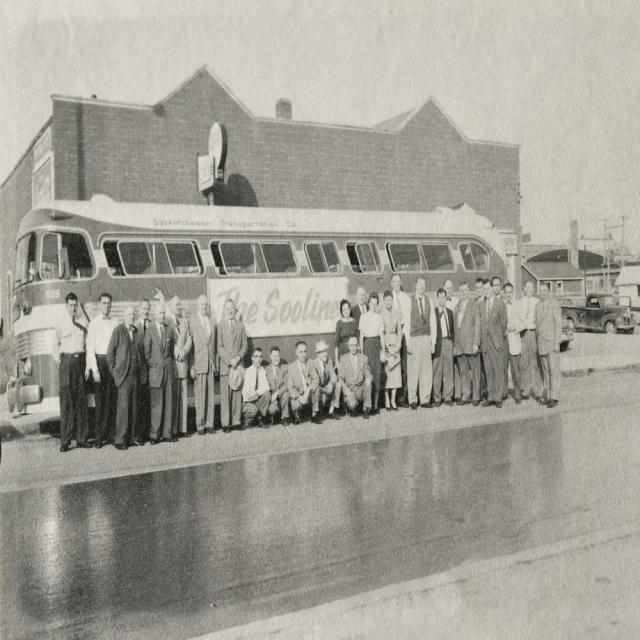body: (49, 292, 90, 453), (105, 306, 145, 453), (85, 293, 118, 449), (187, 294, 221, 436), (214, 298, 249, 434), (404, 275, 438, 410), (142, 302, 174, 444), (476, 278, 508, 409), (532, 280, 564, 408), (166, 294, 194, 438), (451, 280, 481, 405), (357, 290, 385, 415), (286, 340, 324, 425), (501, 282, 527, 406), (336, 336, 374, 420), (236, 346, 272, 432), (519, 279, 544, 402), (378, 289, 403, 412), (431, 287, 456, 408), (390, 273, 410, 409), (310, 339, 338, 425), (262, 344, 290, 426), (332, 299, 361, 372), (132, 298, 155, 372), (350, 286, 370, 344), (443, 278, 459, 311), (489, 275, 506, 301), (473, 277, 487, 302)
